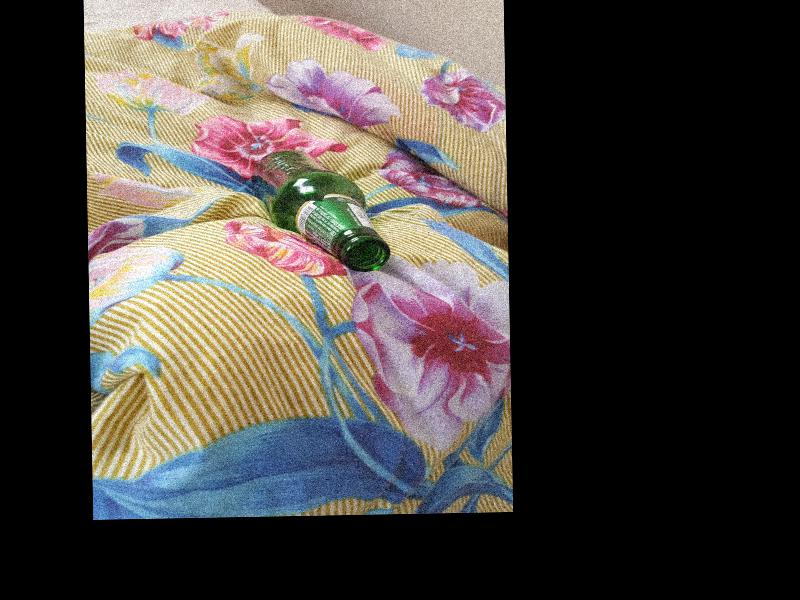Beer: (251, 148, 392, 275)
